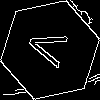V: (25, 25, 77, 72)
